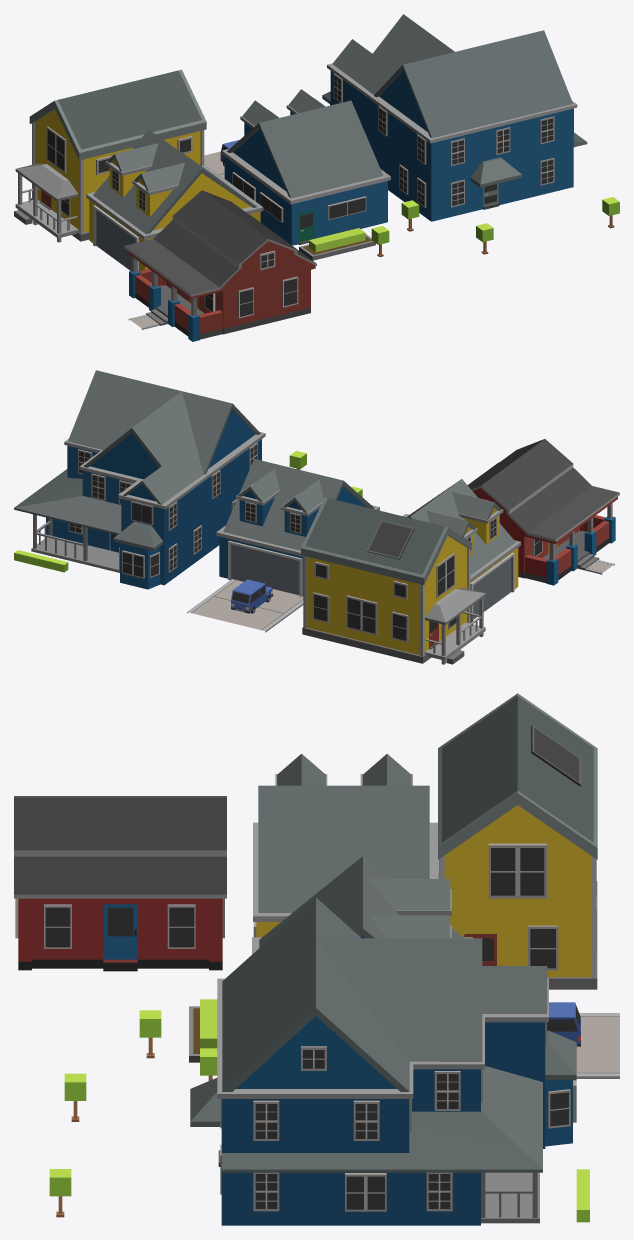
File: Residemtial_2_hub.FBX
The picture shows the model from 3 angles, top to bottom: view 1: azimuth 30°, elevation 25°; view 2: azimuth 150°, elevation 25°; view 3: azimuth 270°, elevation 25°; orthographic projection. The views are drawn at different scales.
Parts seen in each view (by area): view 1: Building_House_07, Building_House_09, Building_Garage_03, Building_House_02, Building_Garage_01, Env_Planter; view 2: Building_House_07, Building_House_02, Building_House_09, Building_Garage_03, Building_Garage_01, path_driveway, car_seperate_blue, hedge_mesh; view 3: Building_House_07, Building_House_02, Building_House_09, Building_Garage_01, Building_Garage_03, path_driveway, Env_Planter, car_seperate_blue, tree_small_mesh (2), tree_small_mesh (3), tree_small_mesh (1), hedge_mesh.
Part boxes in pixels (left/top/right/bottom): Building_House_07: left=322, top=14, right=587, bottom=221; Building_House_09: left=124, top=190, right=316, bottom=341; Building_Garage_03: left=221, top=89, right=390, bottom=245; Building_House_02: left=14, top=69, right=206, bottom=242; Building_Garage_01: left=86, top=129, right=263, bottom=271; Env_Planter: left=299, top=228, right=375, bottom=260; Building_House_07: left=14, top=370, right=265, bottom=589; Building_House_02: left=301, top=497, right=485, bottom=664; Building_House_09: left=467, top=439, right=619, bottom=585; Building_Garage_03: left=216, top=459, right=379, bottom=596; Building_Garage_01: left=402, top=479, right=520, bottom=621; path_driveway: left=187, top=579, right=303, bottom=632; car_seperate_blue: left=231, top=579, right=273, bottom=613; hedge_mesh: left=14, top=550, right=68, bottom=572; Building_House_07: left=190, top=897, right=576, bottom=1225; Building_House_02: left=438, top=693, right=597, bottom=989; Building_House_09: left=14, top=796, right=226, bottom=971; Building_Garage_01: left=253, top=754, right=438, bottom=937; Building_Garage_03: left=252, top=856, right=472, bottom=954; path_driveway: left=576, top=1013, right=619, bottom=1078; Env_Planter: left=189, top=999, right=217, bottom=1062; car_seperate_blue: left=547, top=1002, right=580, bottom=1046; tree_small_mesh (2): left=49, top=1169, right=71, bottom=1217; tree_small_mesh (3): left=139, top=1010, right=161, bottom=1058; tree_small_mesh (1): left=64, top=1073, right=86, bottom=1121; hedge_mesh: left=576, top=1169, right=589, bottom=1222.
Bounding box in the file's own units: 59651 × 16078 × 40340.
Materials: 4 (4 with a texture image).
